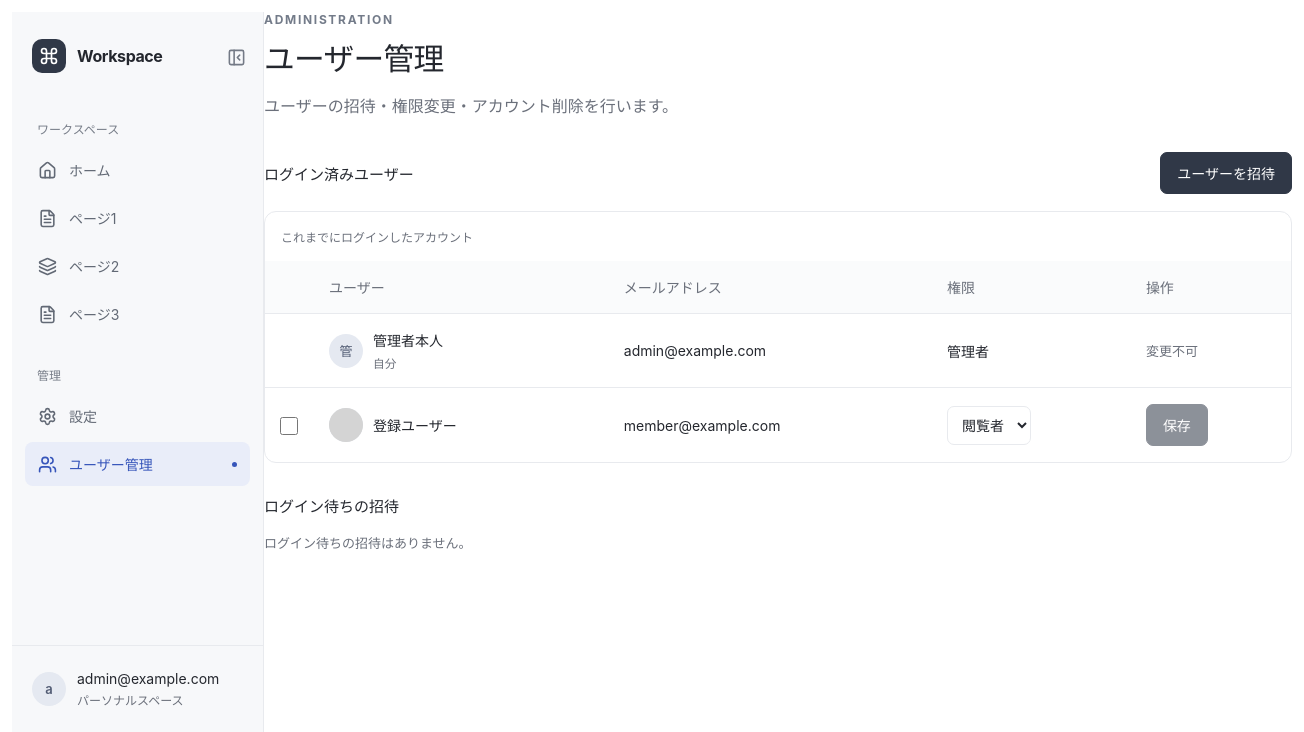
Test case: 管理者専用ユーザー管理 › editor/viewerを明示的な保存で更新し、既存の許可は変更しない
The image size is (1304, 732).
Check: the text "登録ユーザー" is shown, box [373,415,457,435]
Select "編集者" in the dropdown named "member@example.comの権限" at (989, 425), box [947,406,1031,445]
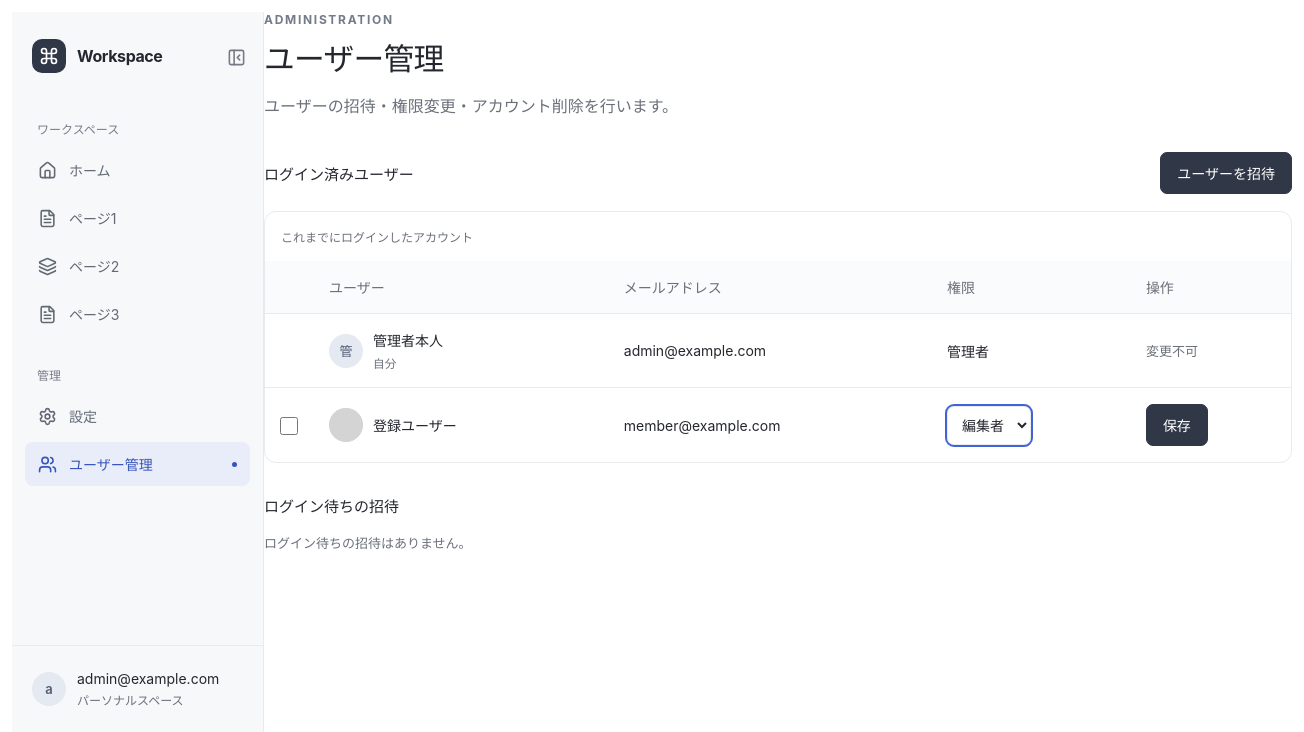
Click the button "保存" at (1177, 425), box [1146,404,1208,446]
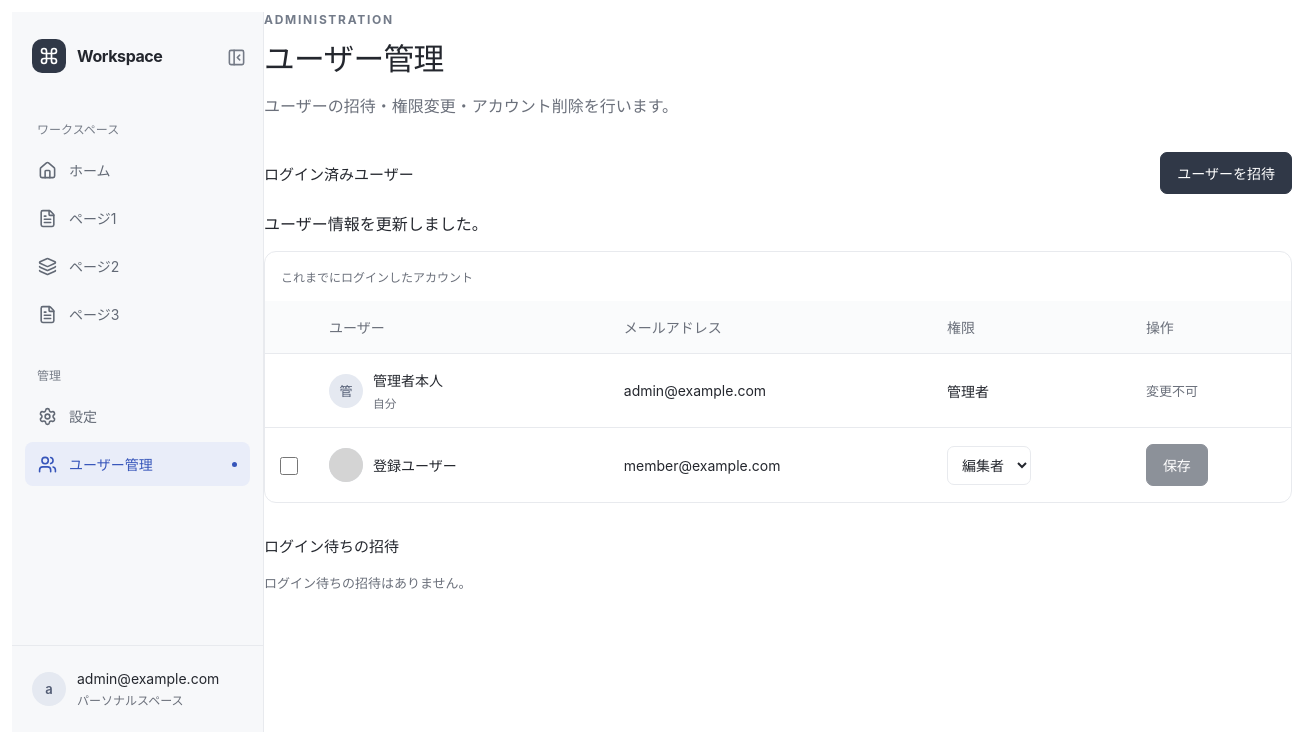
Check: the text "ユーザー情報を更新しました。" is shown, box [264,214,488,234]
Check: the button "保存" is disabled, box [1146,444,1208,486]
